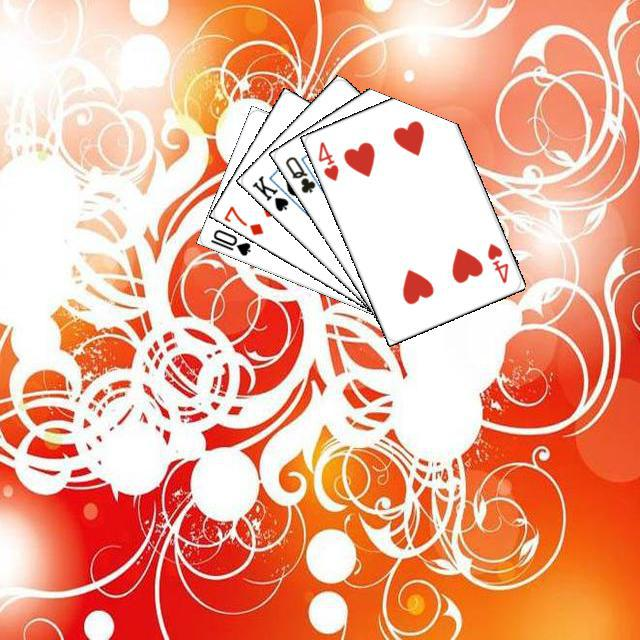10s: (205, 224, 253, 258)
4h: (482, 238, 510, 285), (313, 137, 340, 183)
7d: (219, 201, 265, 237)
Ks: (247, 170, 290, 213)
Qc: (280, 151, 324, 195)
